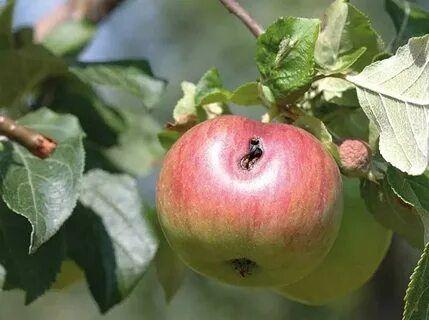Apple: (156, 115, 344, 288)
